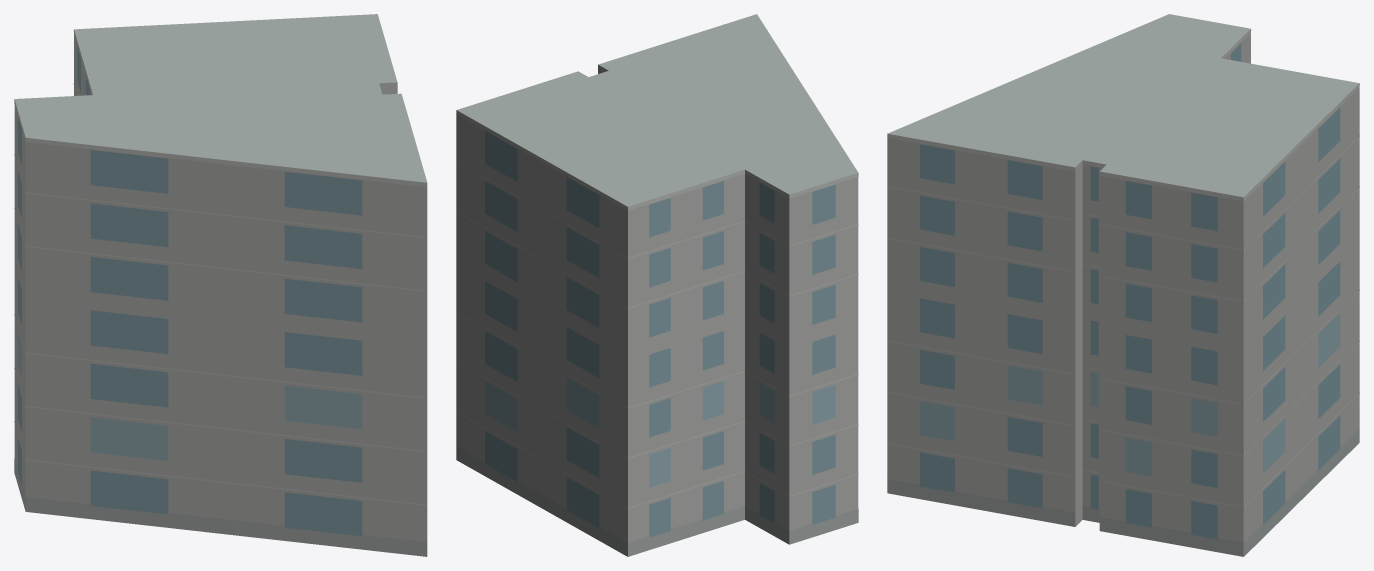
Rendered from survey-upis-32661245.glb.
The picture shows the model from 3 angles, left to right: view 1: azimuth 30°, elevation 25°; view 2: azimuth 150°, elevation 25°; view 3: azimuth 270°, elevation 25°; orthographic projection. The views are drawn at different scales.
Visible parts, largest first — view 1: survey-upis-32661245.tmp; view 2: survey-upis-32661245.tmp; view 3: survey-upis-32661245.tmp.
Part boxes in pixels (x1,y1,x2,y2): survey-upis-32661245.tmp: [14, 14, 427, 556]; survey-upis-32661245.tmp: [456, 14, 858, 556]; survey-upis-32661245.tmp: [887, 14, 1359, 556].
Bounding box in the file's own units: 22.44 × 20.5 × 24.42.
